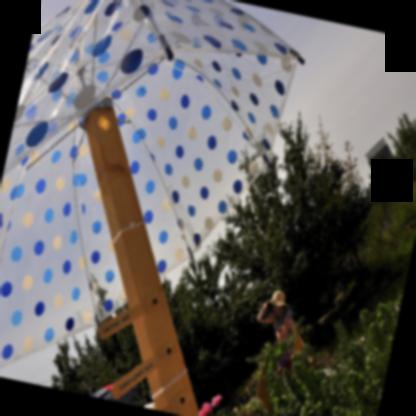handbag: (292, 330, 312, 367)
